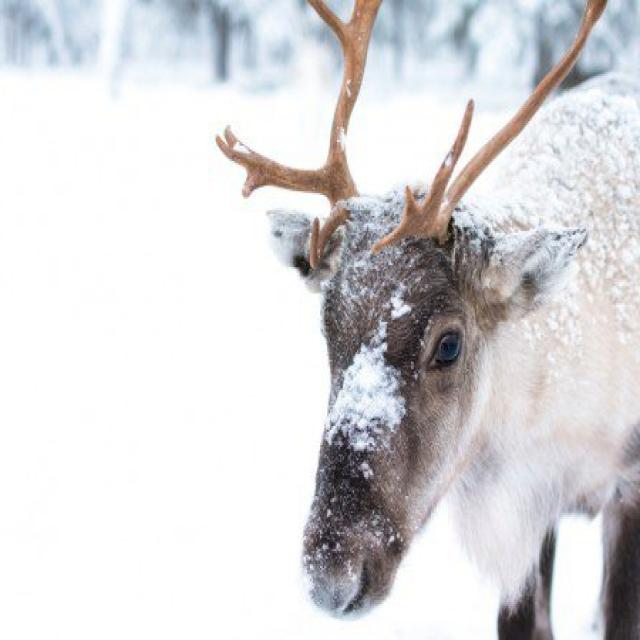reindeer: (218, 0, 640, 638)
